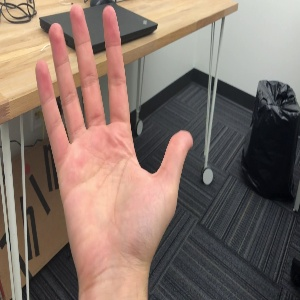hand: (35, 4, 192, 252)
